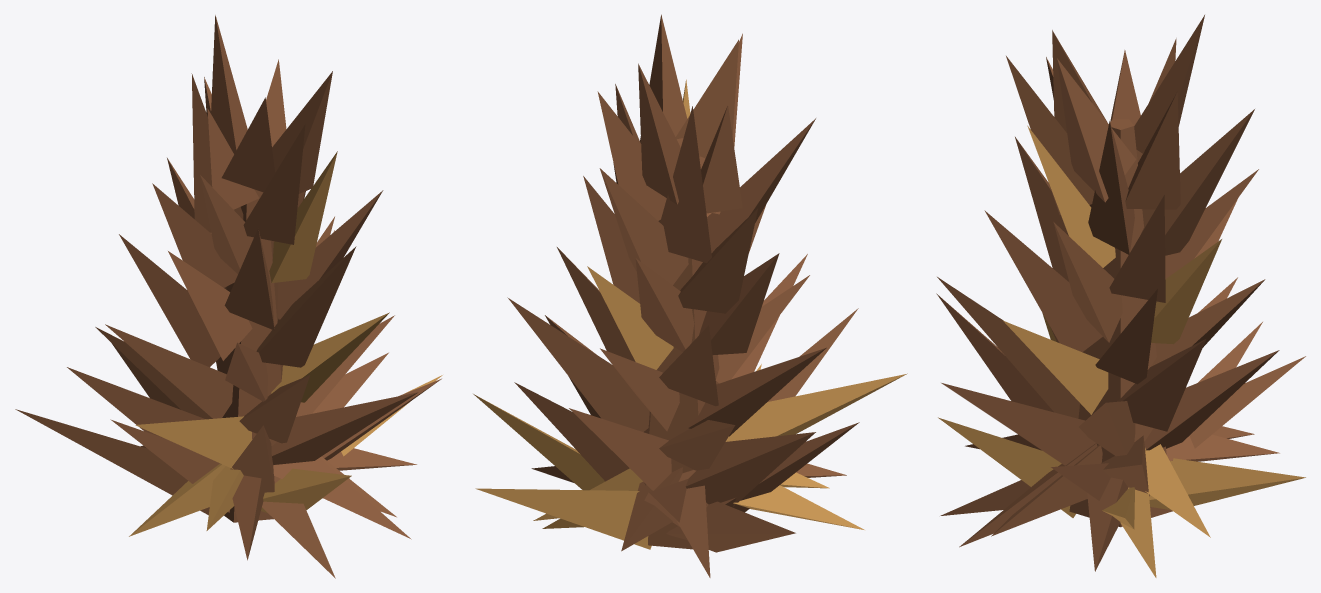
The model's file is dry_shrub_large.glb.
The picture shows the model from 3 angles, left to right: view 1: azimuth 30°, elevation 25°; view 2: azimuth 150°, elevation 25°; view 3: azimuth 270°, elevation 25°; orthographic projection. The views are drawn at different scales.
Parts seen in each view (by area): view 1: dry_shrub_large; view 2: dry_shrub_large; view 3: dry_shrub_large.
Part boxes in pixels (<box>): dry_shrub_large: <box>15,15,442,578</box>; dry_shrub_large: <box>473,14,907,577</box>; dry_shrub_large: <box>936,15,1305,577</box>.
Bounding box in the file's own units: 0.7197 × 0.8958 × 0.5942.
